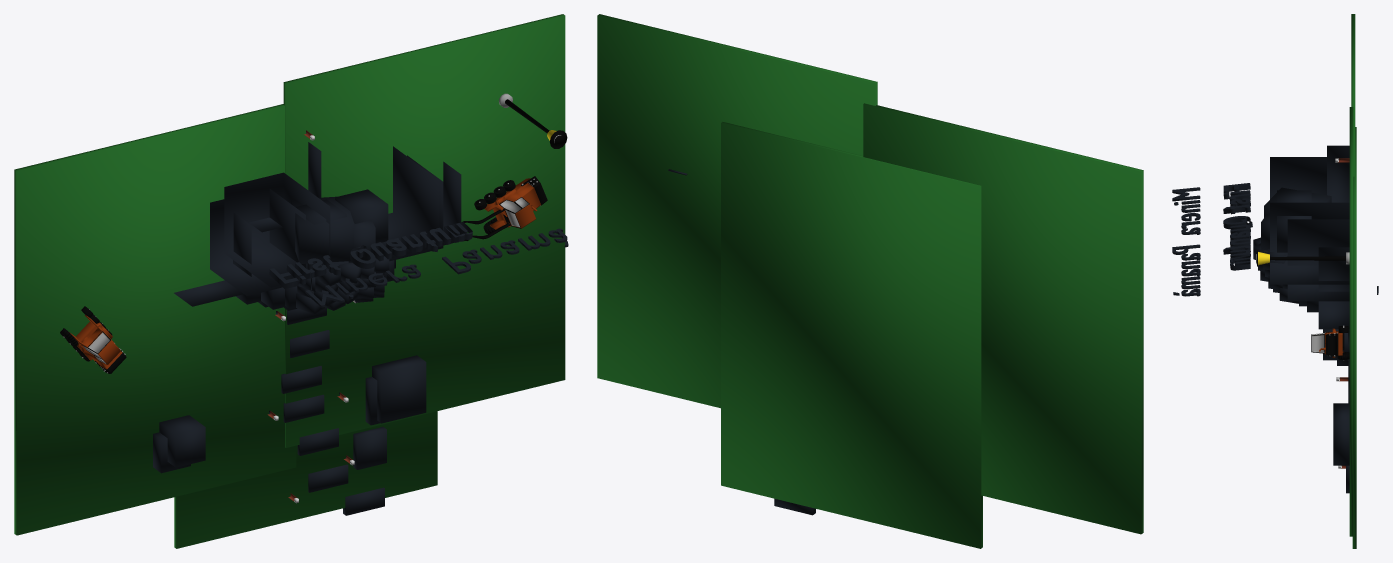
Rendered from mina.obj.
3 renders of one model, left to right at view 1: azimuth 30°, elevation 25°; view 2: azimuth 150°, elevation 25°; view 3: azimuth 270°, elevation 25°, orthographic. The views are drawn at different scales.
Parts seen in each view (by area): view 1: obj4, obj3, obj5, obj2, obj22, obj33, obj9, obj8, obj34, obj7, obj40, obj13 (+9 smaller); view 2: obj2, obj4, obj3; view 3: obj5, obj3, obj33, obj34, obj2, obj6, obj9, obj7, obj22, obj40, obj4, obj1 (+2 smaller).
Boxes of the visible parts, x1,y1,x2,y2 form: obj4: (14, 104, 296, 535); obj3: (283, 14, 565, 447); obj5: (174, 146, 461, 306); obj2: (174, 411, 437, 548); obj22: (236, 256, 395, 314); obj33: (269, 222, 472, 288); obj9: (372, 355, 426, 423); obj8: (291, 196, 353, 263); obj34: (305, 228, 568, 307); obj7: (295, 189, 388, 243); obj40: (484, 176, 547, 229); obj13: (159, 415, 205, 467); obj2: (721, 122, 982, 548); obj4: (863, 103, 1143, 534); obj3: (597, 14, 877, 408); obj5: (1270, 157, 1349, 329); obj3: (1349, 107, 1353, 536); obj33: (1223, 183, 1252, 270); obj34: (1172, 187, 1200, 296); obj2: (1352, 127, 1356, 548); obj6: (1327, 145, 1349, 202); obj9: (1333, 403, 1349, 465); obj7: (1277, 190, 1311, 252); obj22: (1253, 237, 1318, 312); obj40: (1311, 328, 1343, 357); obj4: (1351, 14, 1355, 176); obj1: (1256, 250, 1345, 266).
Size of the model in its own units: 238 by 186 by 90.4.
